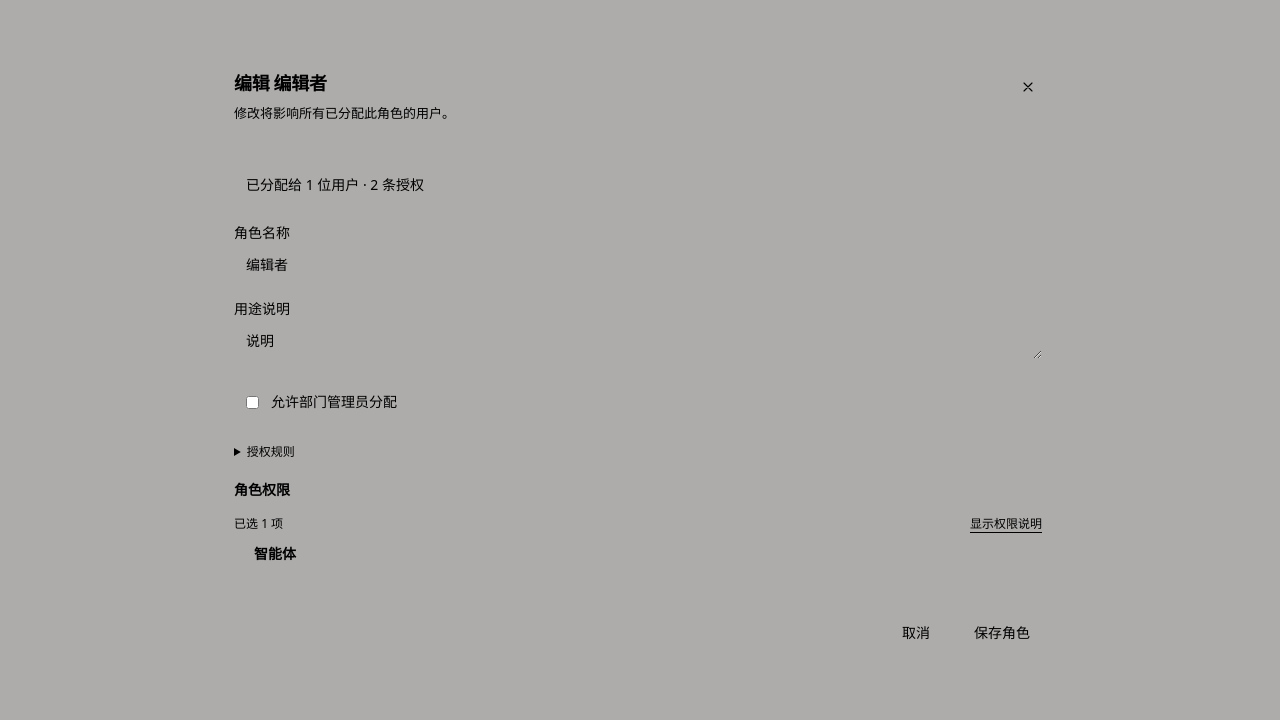
角色权限编辑 › 版本冲突保留草稿且错误在弹窗内
Replace the text in the field labelled "角色名称" with "未保存草稿": [638, 265] box [234,247,1042,283]
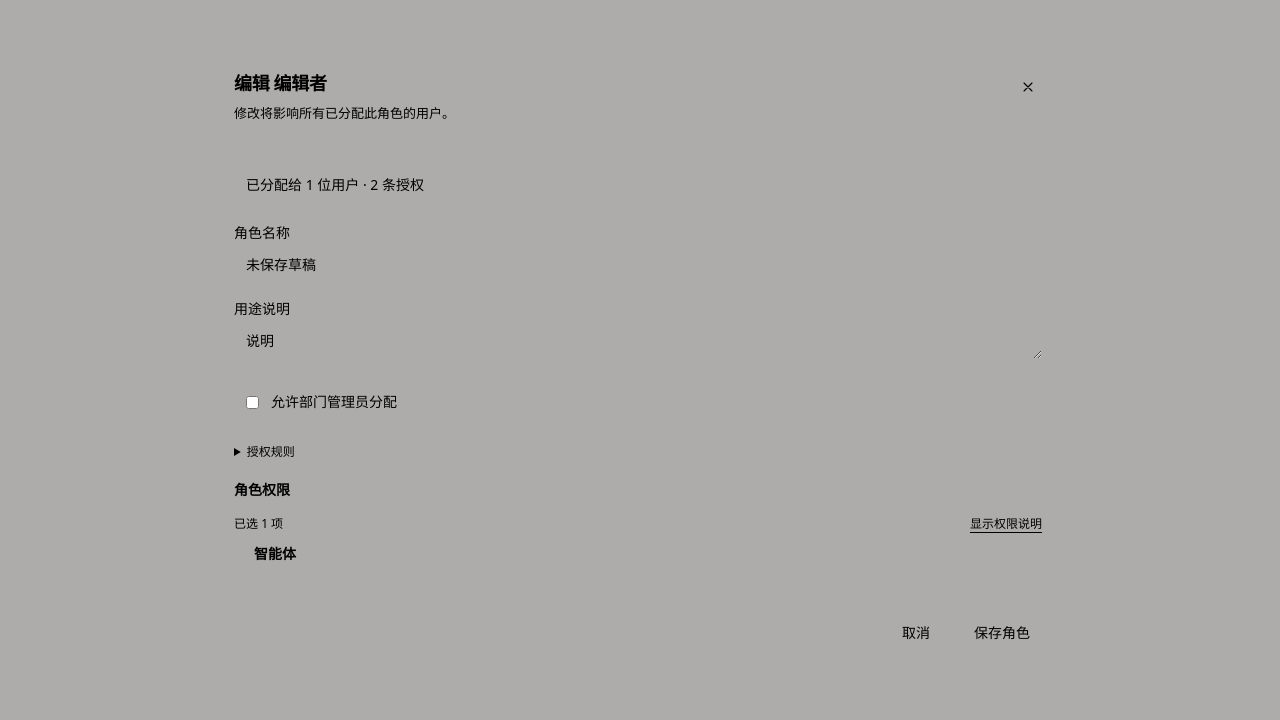
Click the button "保存角色": [1002, 633] box [958,615,1046,651]
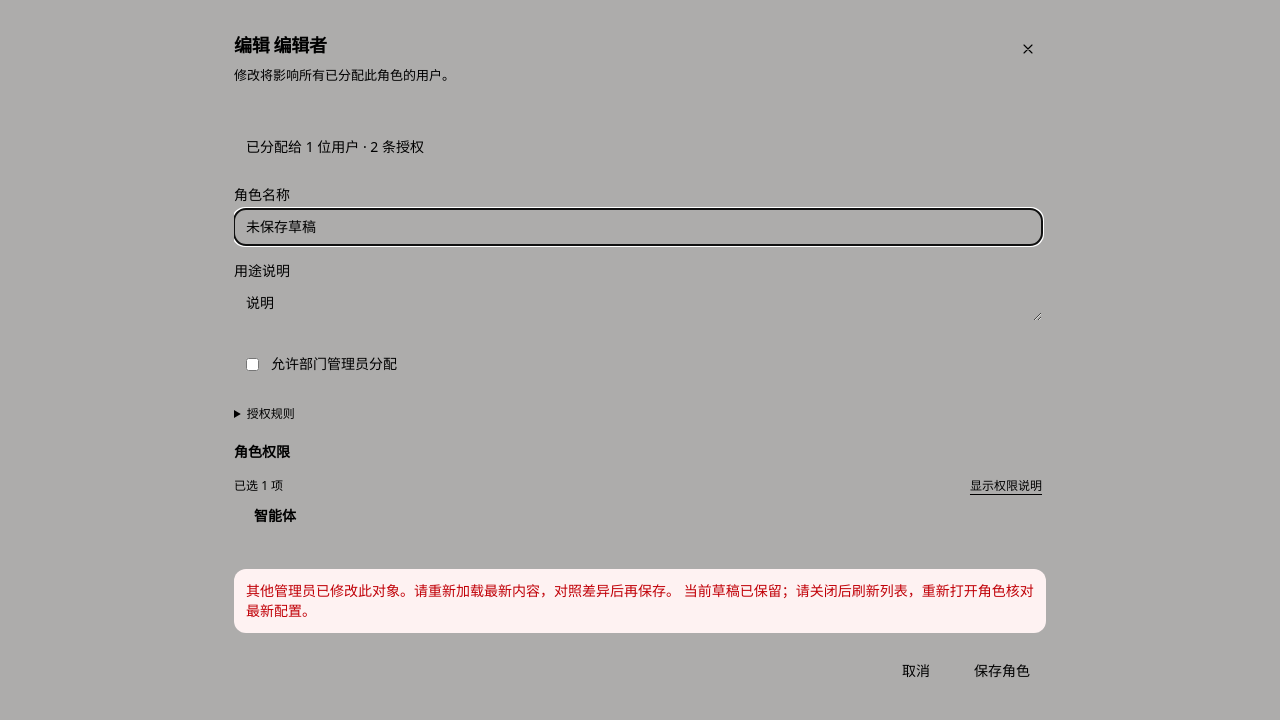
expect the message reads "其他管理员已修改此对象。请重新加载最新内容，对照差异后再保存。 当前草稿已保留；请关闭后刷新列表，重新打开角色核对最新配置。": met, box [246,581,680,600]
